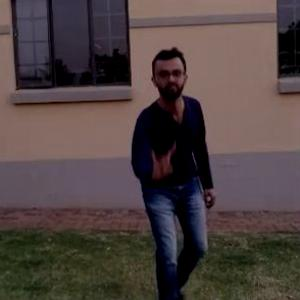takeoff-hand: (145, 136, 182, 184)
